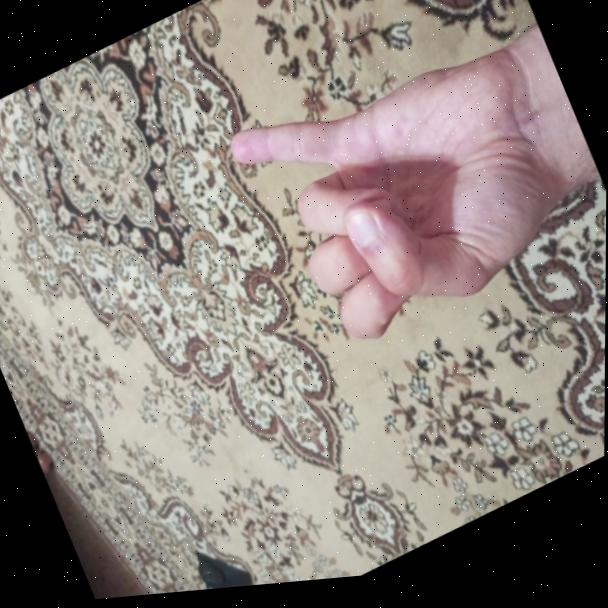five: (206, 0, 608, 411)
